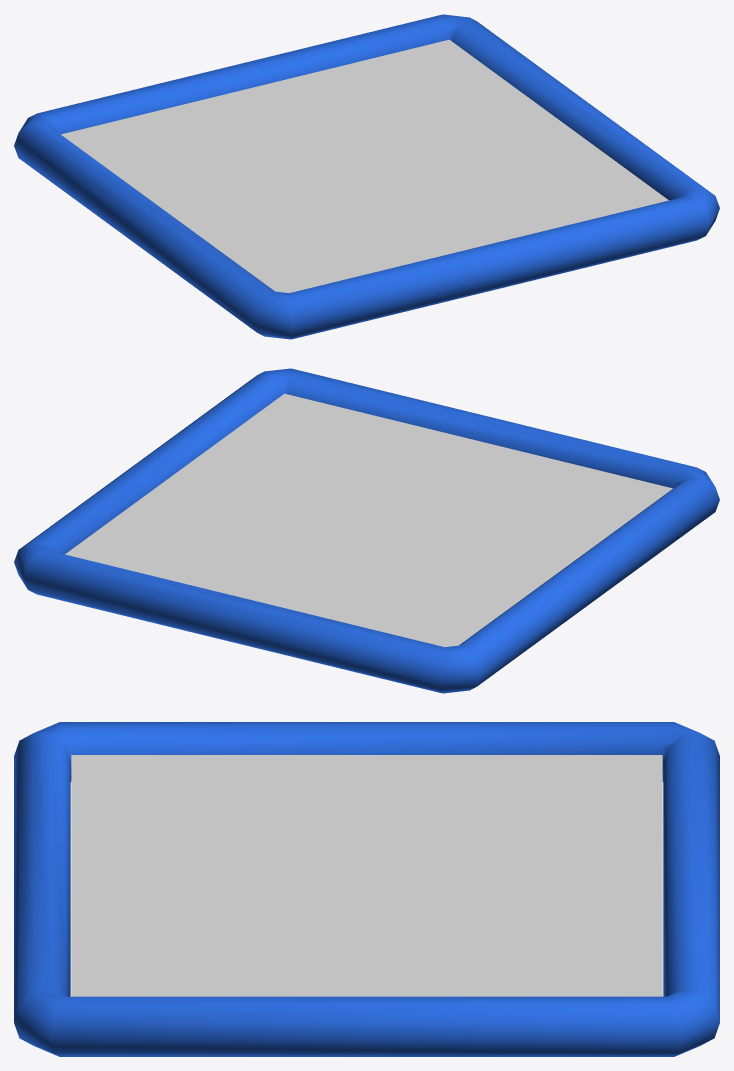
Rendered from platform.fbx.
3 views of the same model, one above another, from view 1: azimuth 30°, elevation 25°; view 2: azimuth 150°, elevation 25°; view 3: azimuth 270°, elevation 25° (orthographic). The views are drawn at different scales.
Parts seen in each view (by area): view 1: Cube, Rectangle; view 2: Cube, Rectangle; view 3: Cube, Rectangle.
Part boxes in pixels (x1,y1,x2,y2): Cube: (61,39,668,292); Rectangle: (14,14,719,339); Cube: (65,393,672,646); Rectangle: (14,368,719,693); Cube: (71,755,662,996); Rectangle: (14,722,719,1056).
Bounding box in the file's own units: 1193 × 99.36 × 1193.
